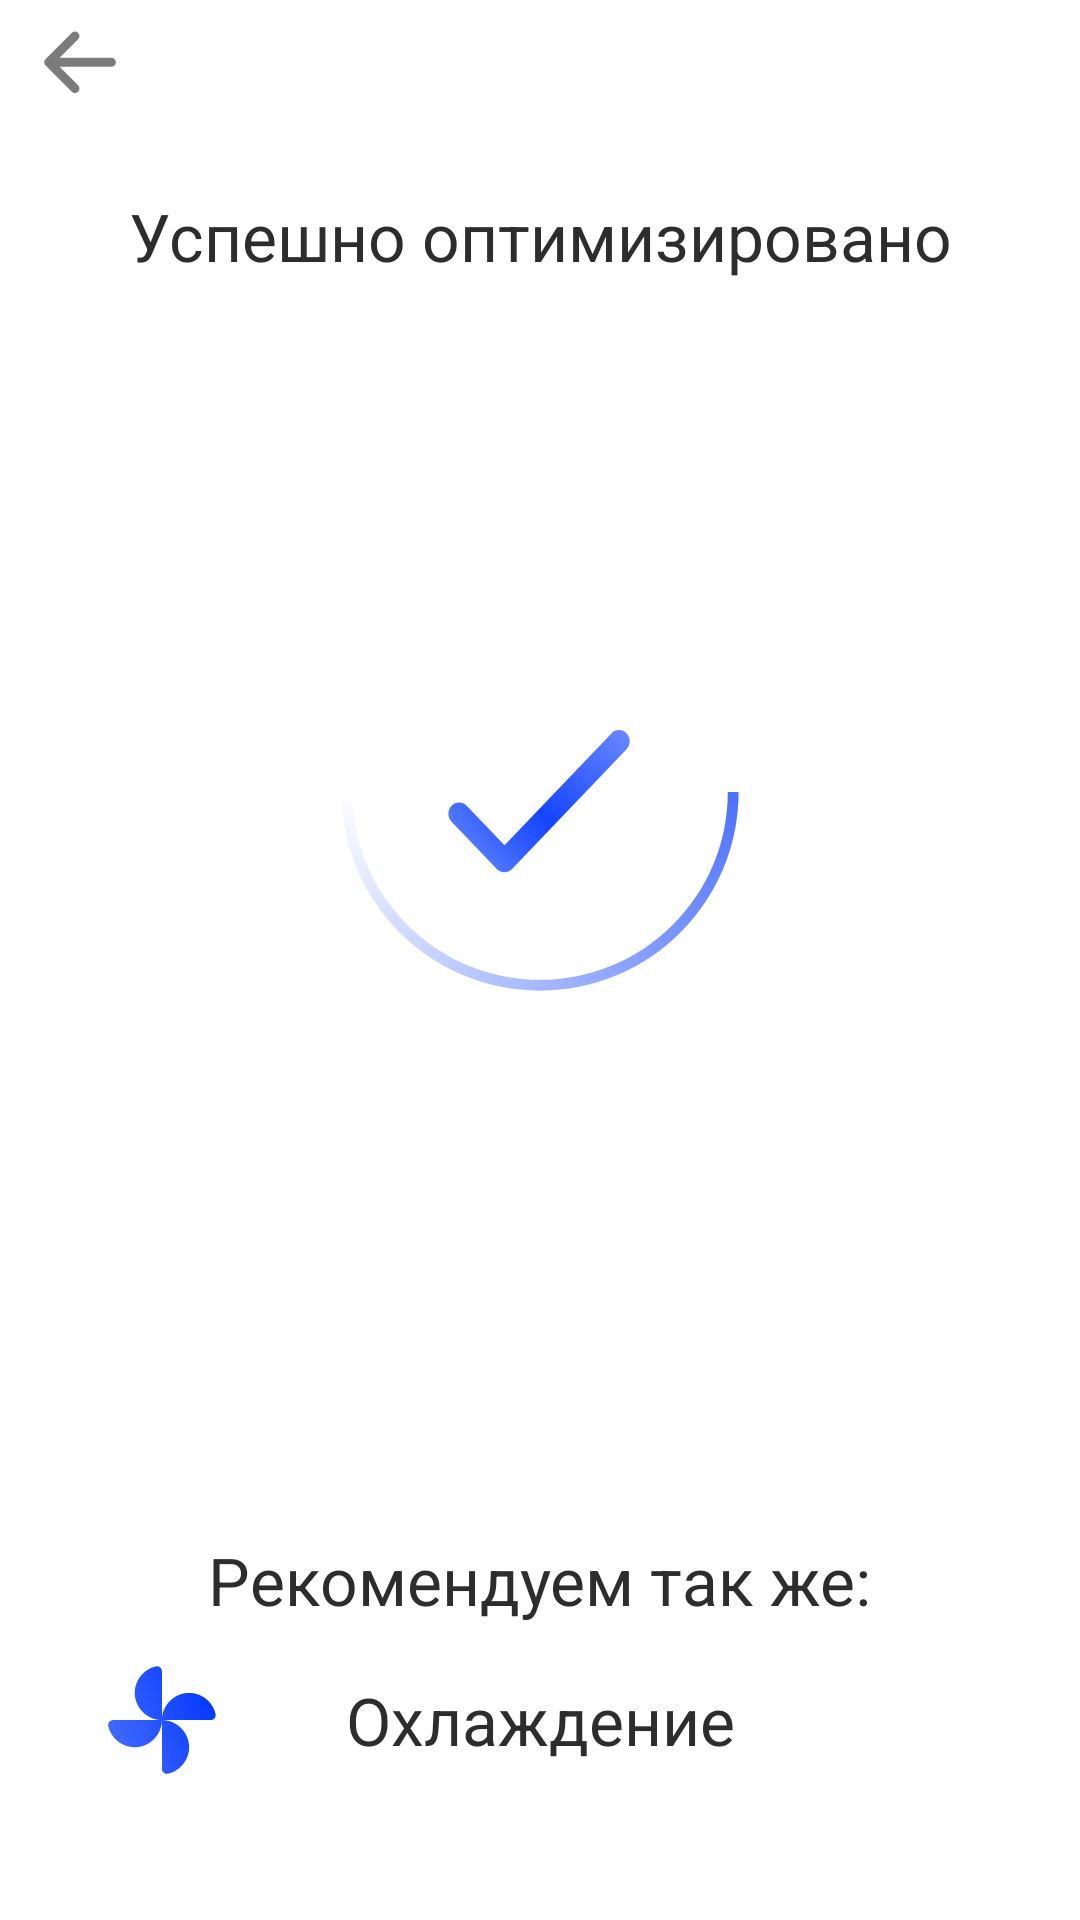

Where icons sit on this 1080w x 1920h app screen, as (x1, y1, x2, y2):
back: (44, 31, 116, 93)
cool recommend: (108, 1666, 216, 1774)
finished: (448, 730, 630, 873)
